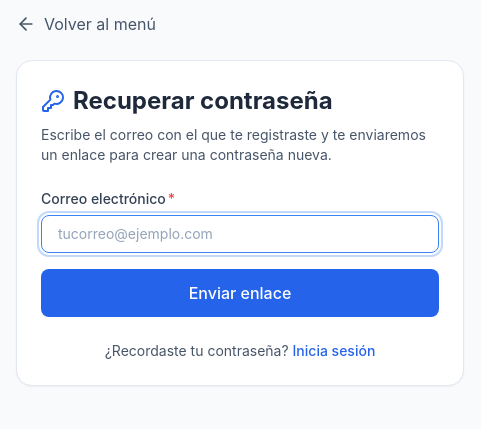
Scenario: ForgotPassword › valida el formato del correo antes de enviar
Type "no-valido" into the field labelled "Correo electrónico*" at (240, 234), box [41,215,439,253]
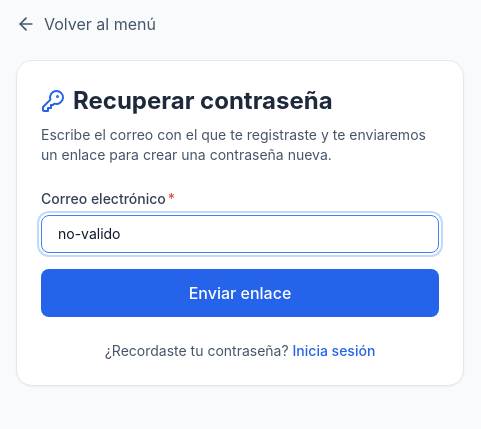
Click the button "Enviar enlace" at (240, 293), box [41,269,439,317]
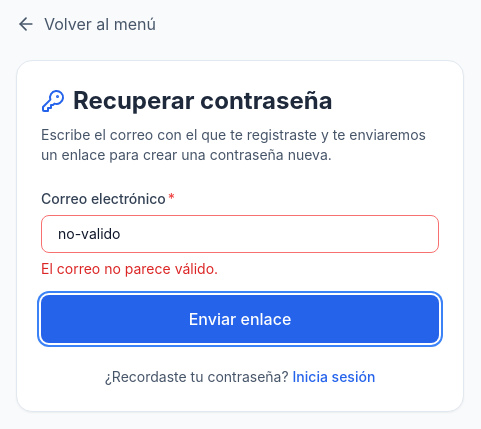
Now the text "El correo no parece válido." is shown, box [41,260,218,277]
